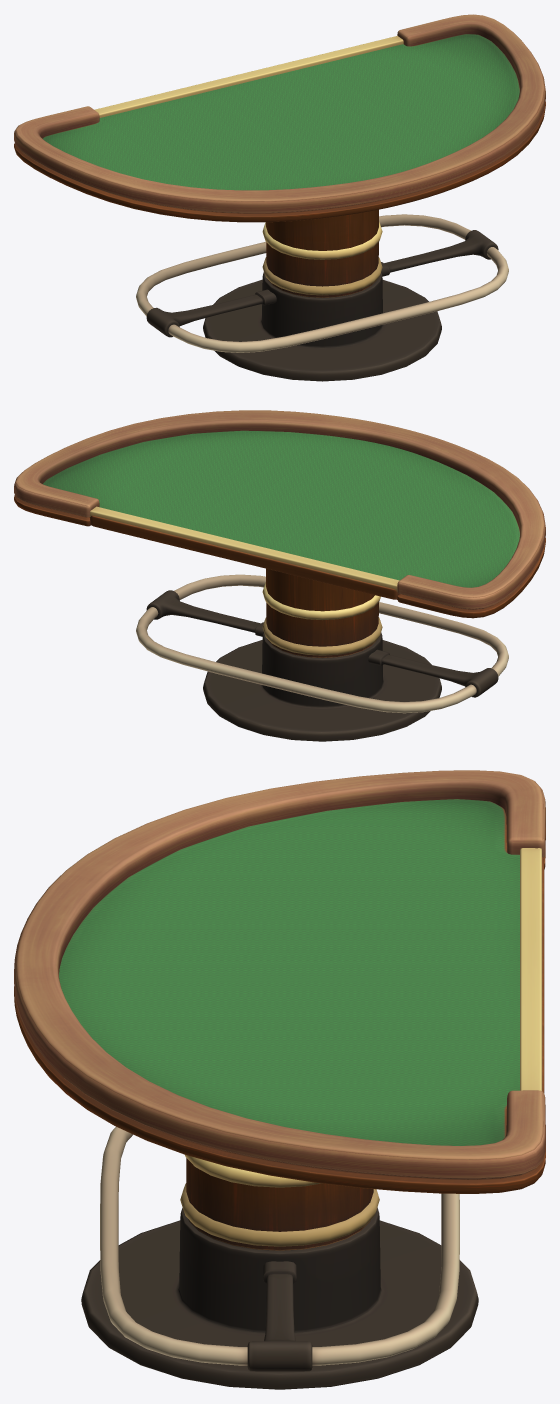
Rendered from BaccaratTable.glb.
The picture shows the model from 3 angles, top to bottom: view 1: azimuth 30°, elevation 25°; view 2: azimuth 150°, elevation 25°; view 3: azimuth 270°, elevation 25°; orthographic projection. The views are drawn at different scales.
Visible parts, largest first — view 1: BaccaratTable; view 2: BaccaratTable; view 3: BaccaratTable.
Part boxes in pixels (left/top/right/bottom): BaccaratTable: left=14, top=14, right=545, bottom=381; BaccaratTable: left=14, top=410, right=545, bottom=741; BaccaratTable: left=14, top=770, right=545, bottom=1389.
Bounding box in the file's own units: 2.54 × 1.04 × 1.46.
Materials: 1 (1 with a texture image).
